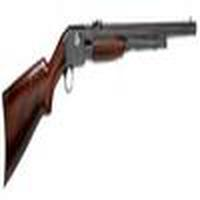gun: (1, 19, 198, 171)
